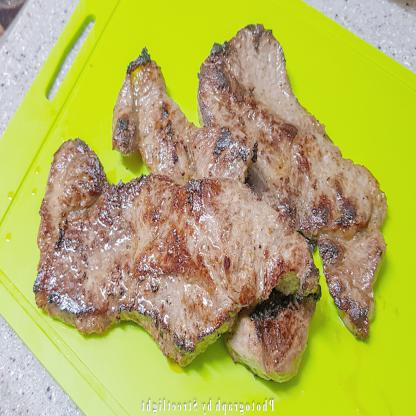Carne: (112, 47, 325, 374), (202, 9, 388, 342), (26, 191, 310, 344)
